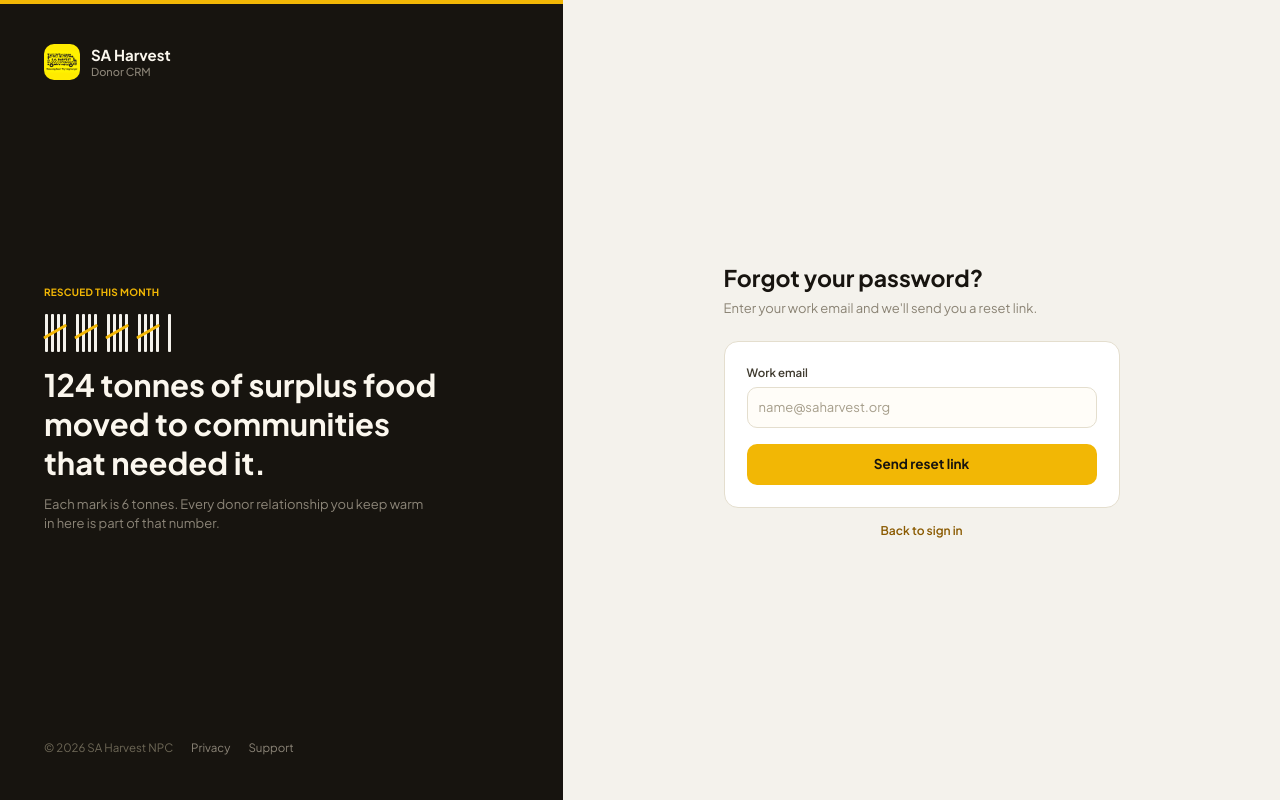
ForgotPasswordPage › Submit button disabled and shows loading text while isPending
Type "test@saharvest.org" into the field with placeholder "name@saharvest.org" at (922, 408), box [747,387,1097,428]
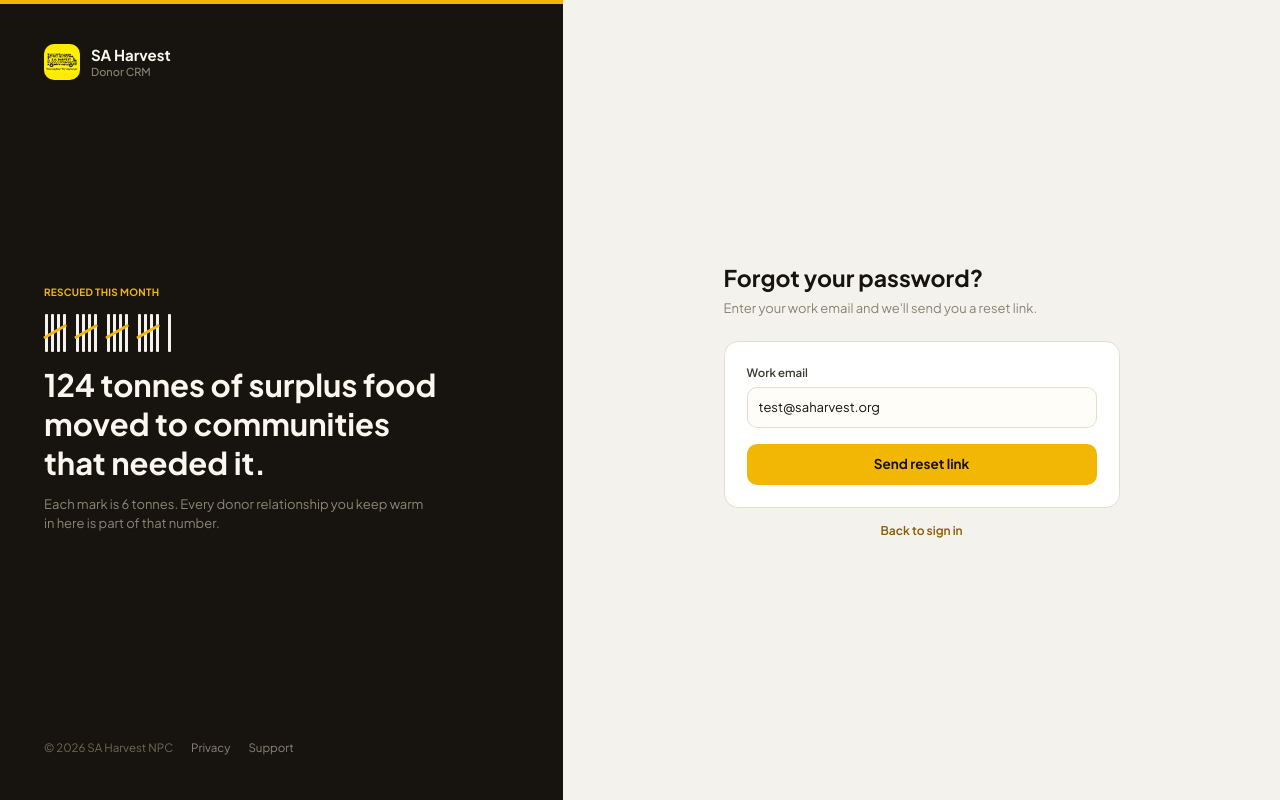
Click the button "Send reset link" at (922, 464), box [747,444,1097,485]
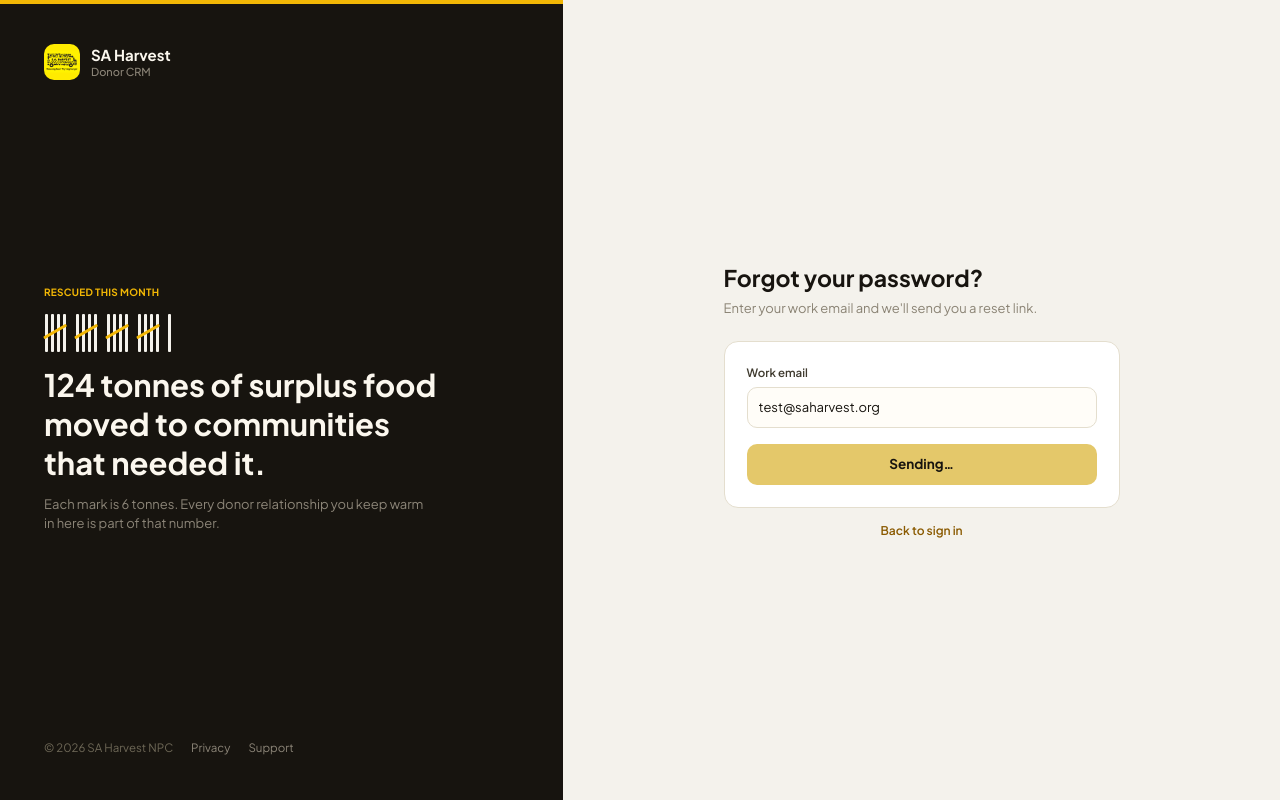
Expected: the button "Sending…" is disabled, [747,444,1097,485]
